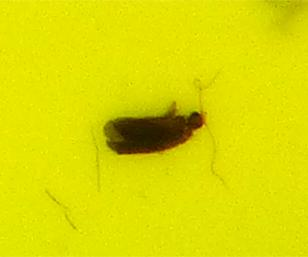Trichoptera: (100, 100, 208, 157)
